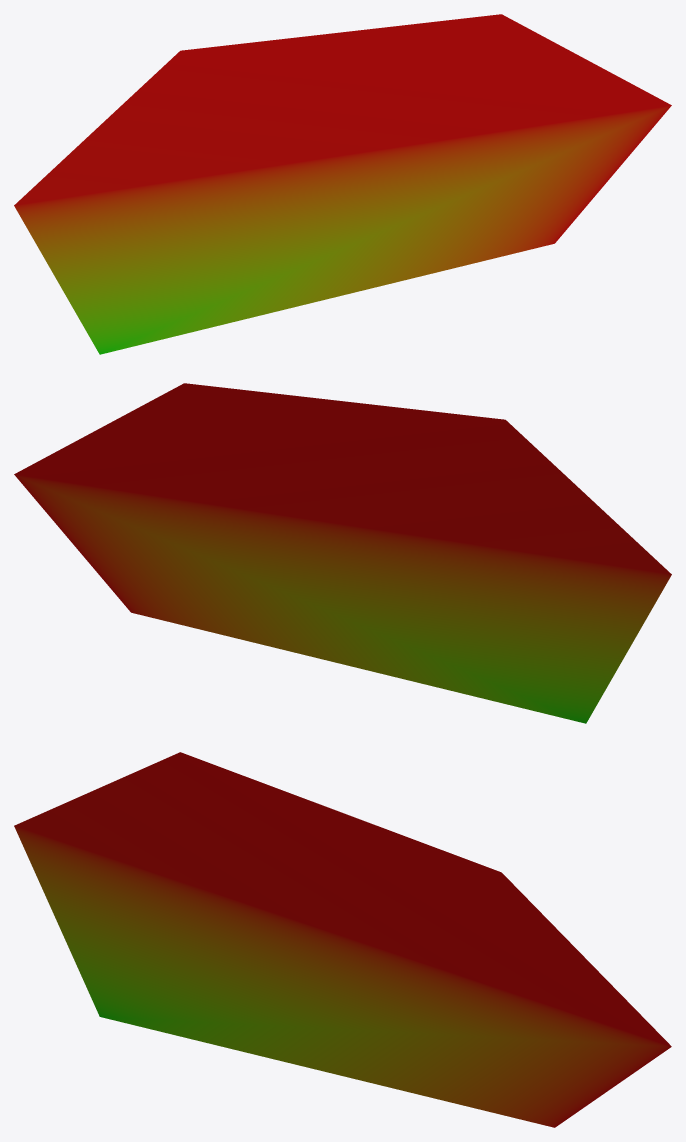
Rendered from Small Balsam_LOD6_Var8_xefmcgrqx.fbx.
3 views of the same model, one above another, from view 1: azimuth 30°, elevation 25°; view 2: azimuth 150°, elevation 25°; view 3: azimuth 330°, elevation 25° (orthographic).
Visible parts, largest first — view 1: _t1oj_Var8_LOD6; view 2: _t1oj_Var8_LOD6; view 3: _t1oj_Var8_LOD6.
Boxes of the visible parts, <box> form: _t1oj_Var8_LOD6: <box>14,14,671,354</box>; _t1oj_Var8_LOD6: <box>14,383,671,723</box>; _t1oj_Var8_LOD6: <box>14,752,671,1127</box>.
Size of the model in its own units: 77 by 31.81 by 1.39e-06.
